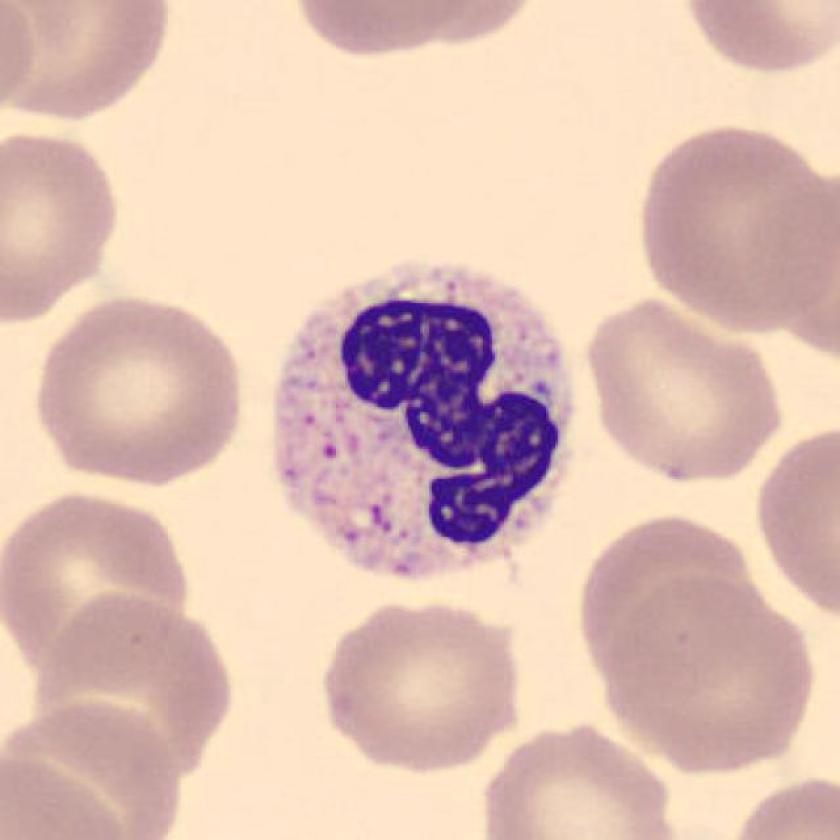neutrophil: (274, 267, 580, 576)
